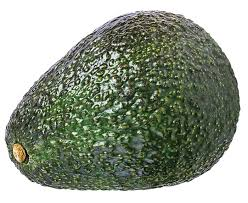avocado: (3, 5, 242, 192)
